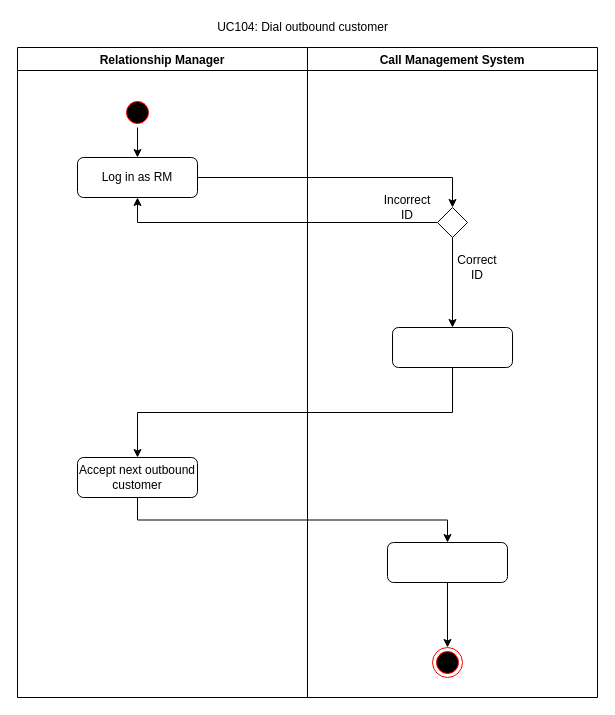
Some shapes in this 615 by 715 pixel diagram are drawn without their labels. The centre of each missing label's shape, as x and y in pixels:
Dial customer: the point at 447,562
Generate outbound list: the point at 452,347
